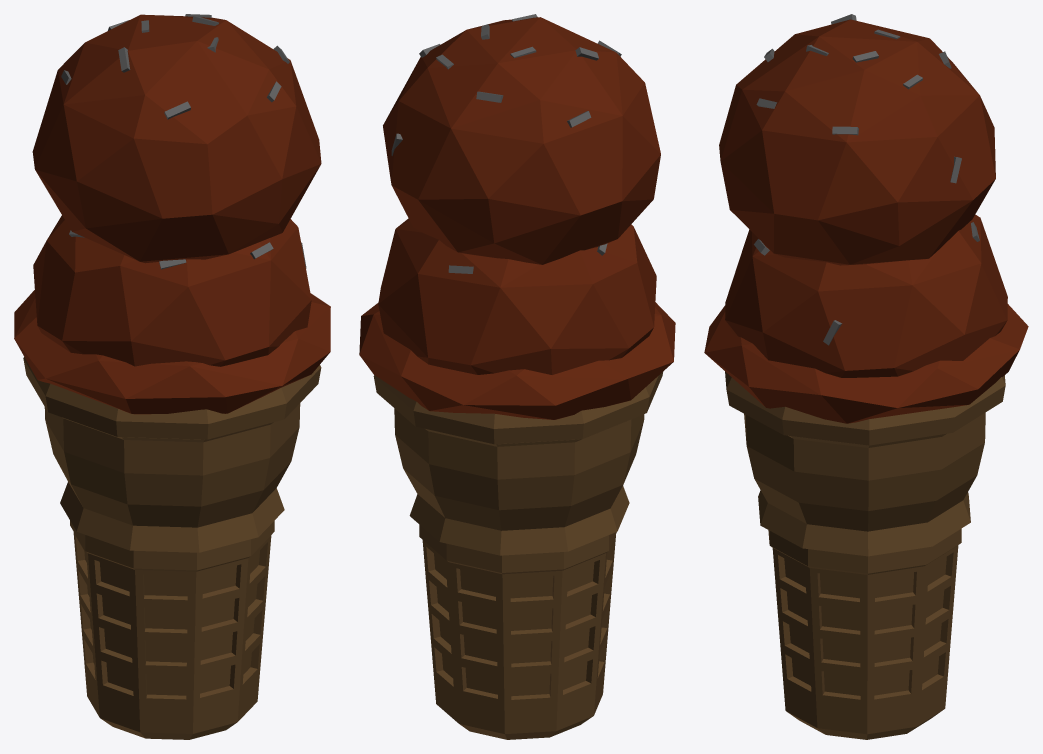
Rendered from IceCream_4.obj.
3 renders of one model, left to right at view 1: azimuth 30°, elevation 25°; view 2: azimuth 150°, elevation 25°; view 3: azimuth 270°, elevation 25°, orthographic.
Parts seen in each view (by area): view 1: IceCream_4_Cylinder.040; view 2: IceCream_4_Cylinder.040; view 3: IceCream_4_Cylinder.040.
Part boxes in pixels (bbox=[...]): IceCream_4_Cylinder.040: bbox=[14, 14, 330, 739]; IceCream_4_Cylinder.040: bbox=[359, 14, 675, 739]; IceCream_4_Cylinder.040: bbox=[704, 14, 1028, 739].
Size of the model in its own units: 0.5155 by 1.18 by 0.5155.
